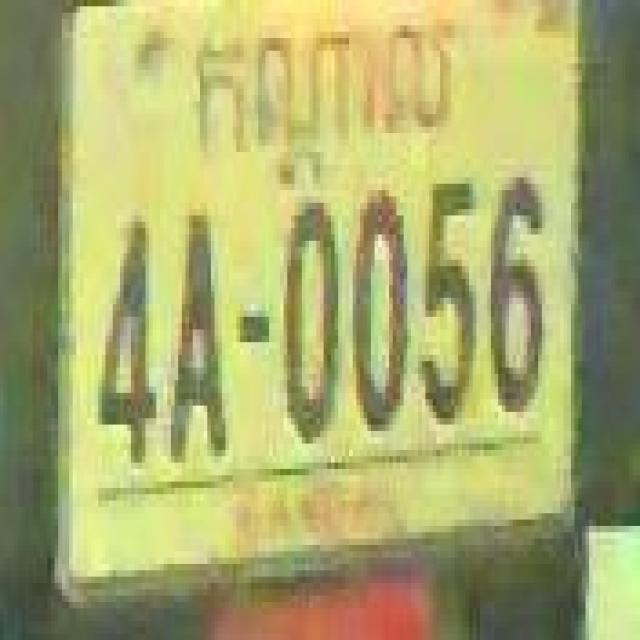Kandal: (193, 19, 458, 188)
